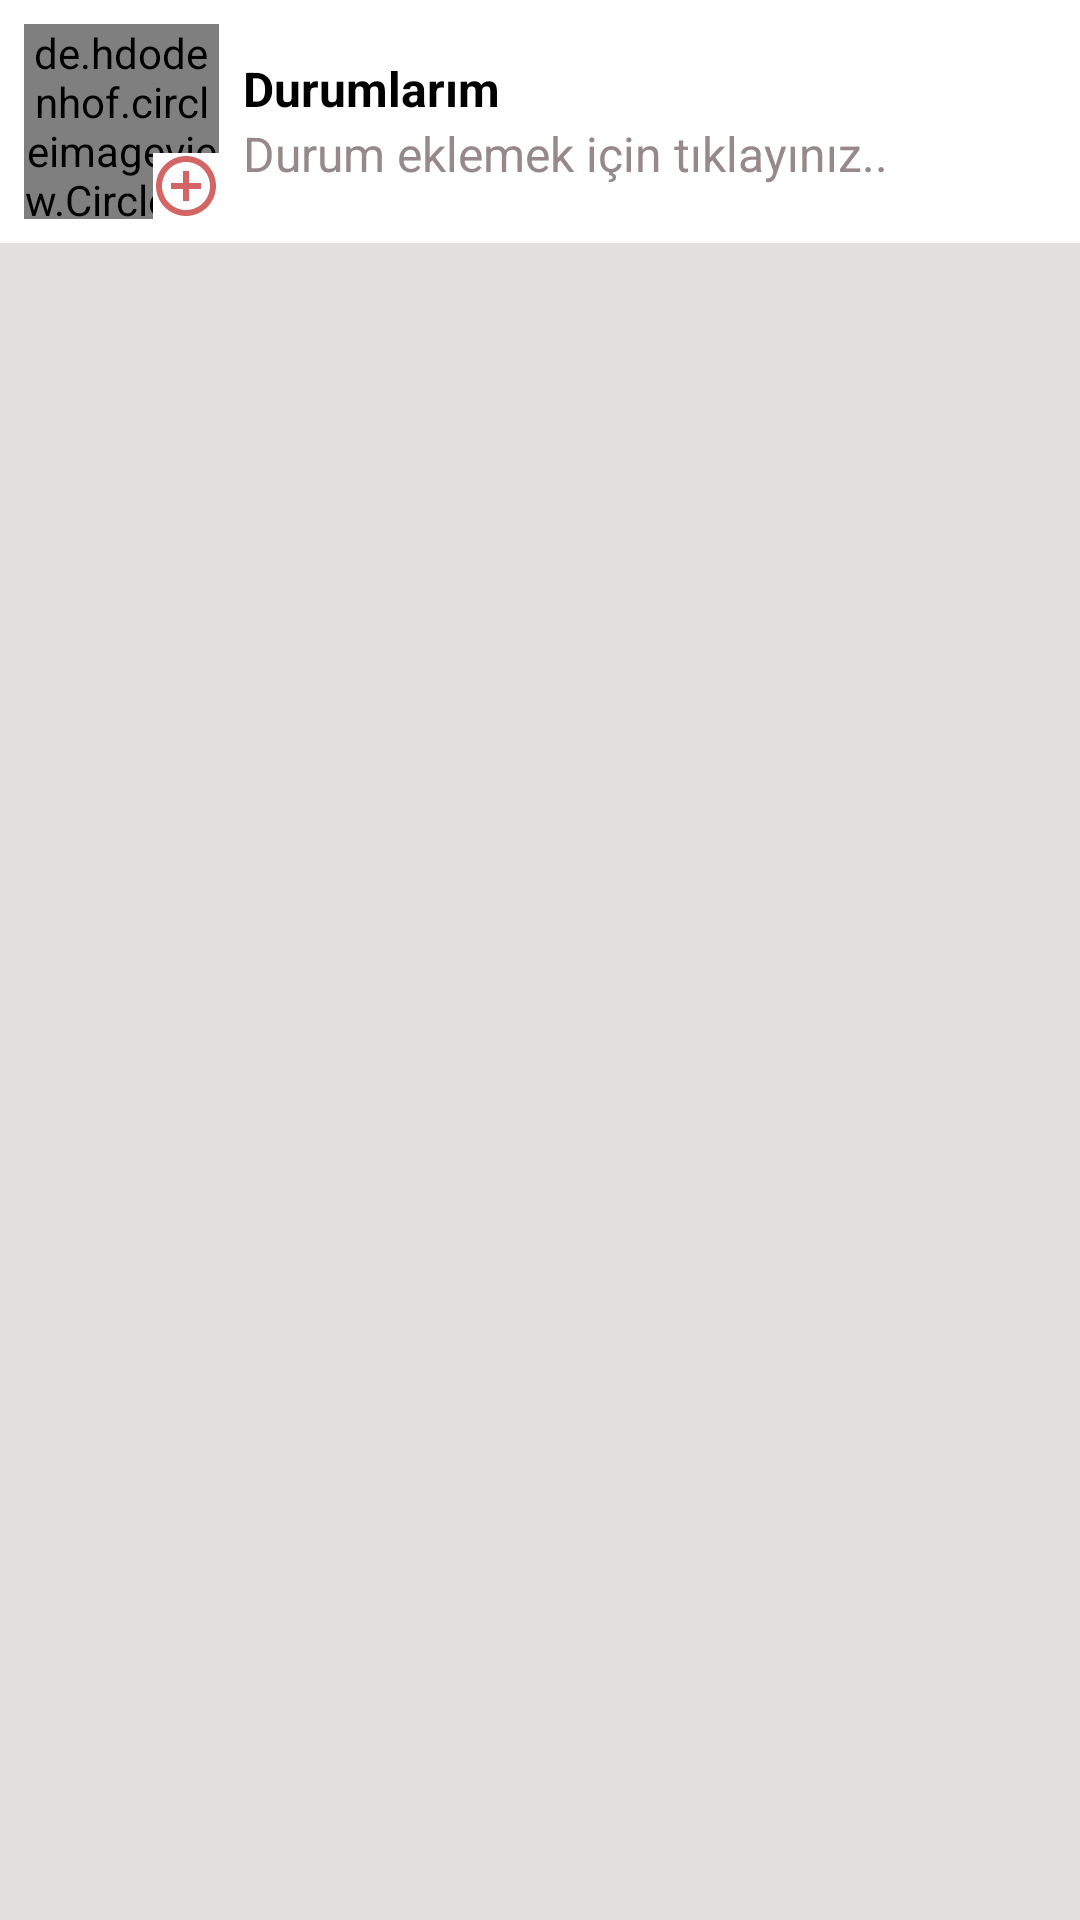

Point at icon controls on the screen. Image size 1080px×1920px, points as (x,y).
add circle: (186,186)
